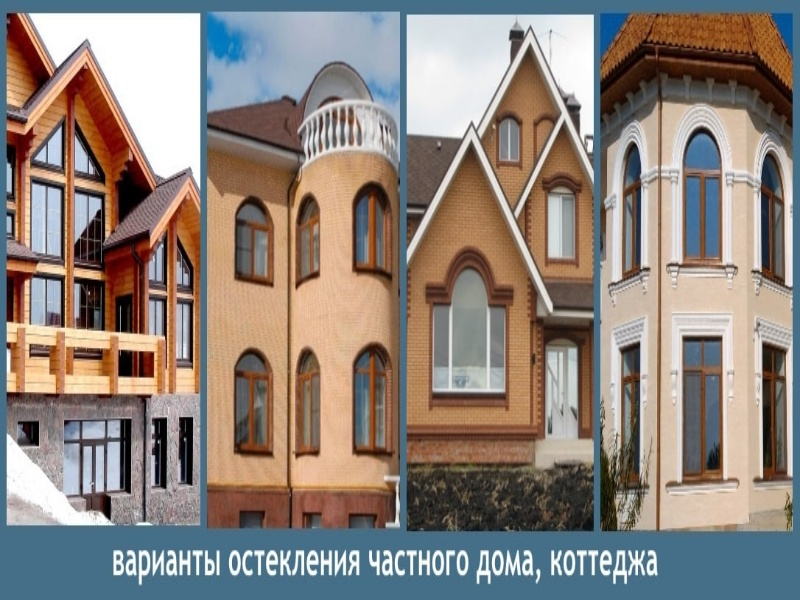window: (420, 240, 511, 402), (679, 317, 726, 487), (676, 115, 725, 267), (607, 329, 645, 490), (224, 342, 277, 456), (347, 333, 392, 456), (56, 417, 130, 490), (753, 138, 787, 282), (761, 329, 793, 481), (612, 132, 644, 275), (229, 188, 273, 283), (352, 182, 392, 280), (288, 346, 322, 458), (541, 174, 582, 263), (26, 179, 66, 257), (290, 191, 322, 281), (75, 188, 108, 269), (29, 109, 66, 172), (70, 115, 106, 179), (168, 301, 200, 369), (26, 274, 64, 321), (493, 109, 521, 168), (70, 282, 106, 327), (141, 225, 166, 284), (172, 228, 195, 290), (147, 294, 165, 337)
